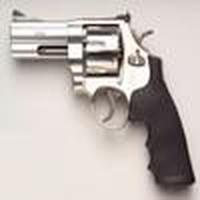gun: (12, 16, 197, 184)
